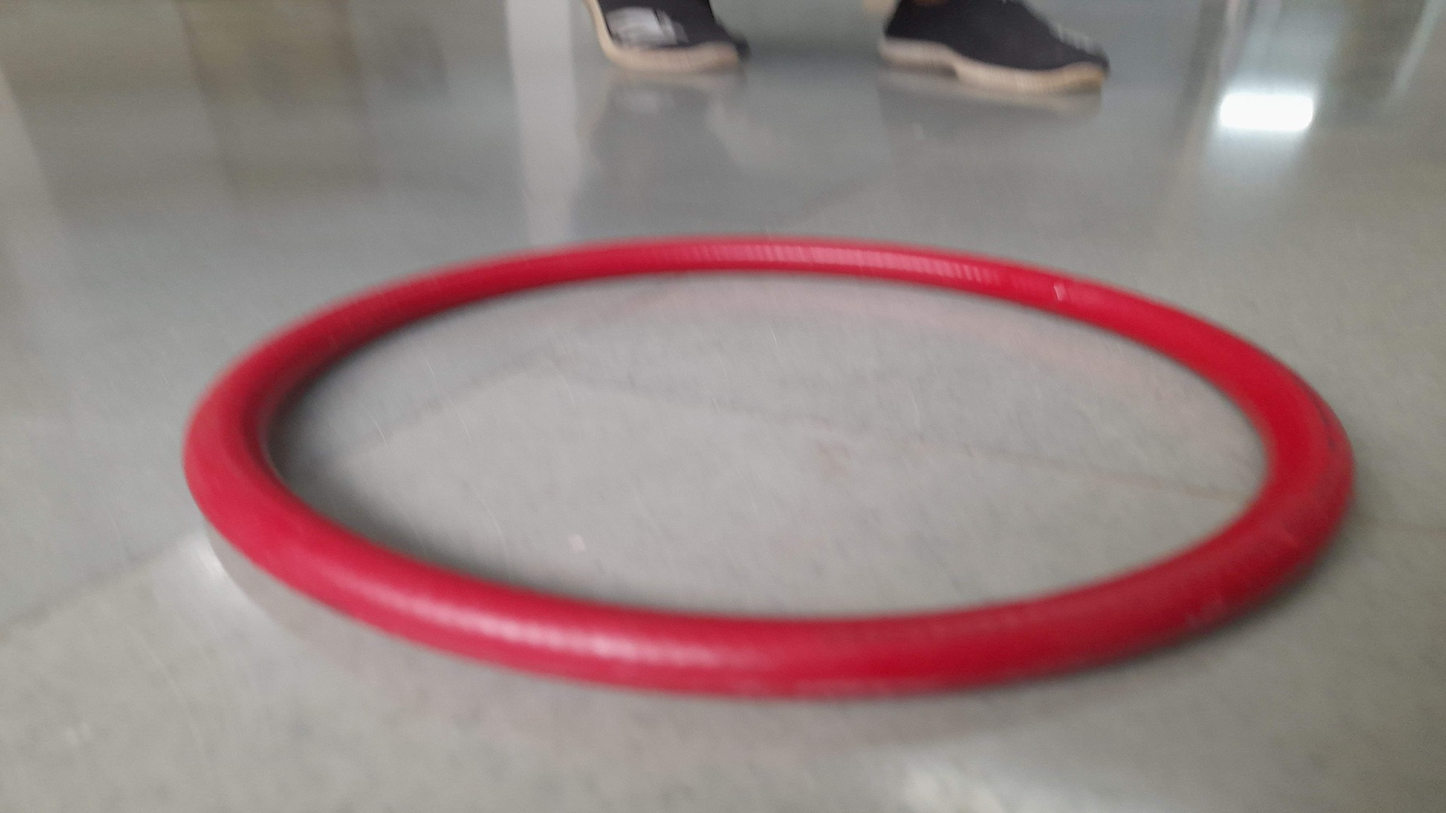Red ring: (178, 233, 1358, 695)
